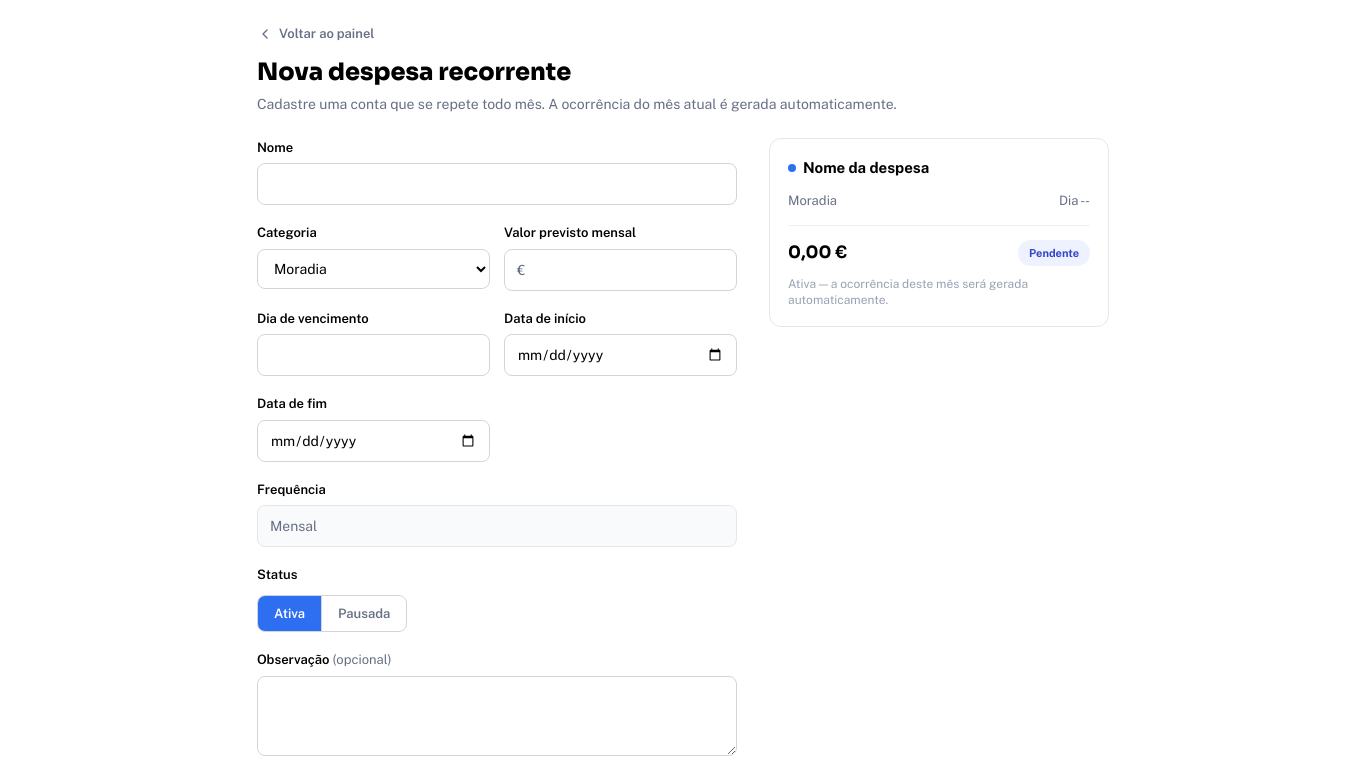
Test: CadastroDespesaRecorrenteComponent › shows a confirmation dialog when "Voltar ao painel" is clicked with unsaved data, and "Continuar editando" keeps the data (FR-023/FR-024)
Type "Aluguel" into the field with test id "nome-input". click: (497, 184)
box: [257,163,737,205]
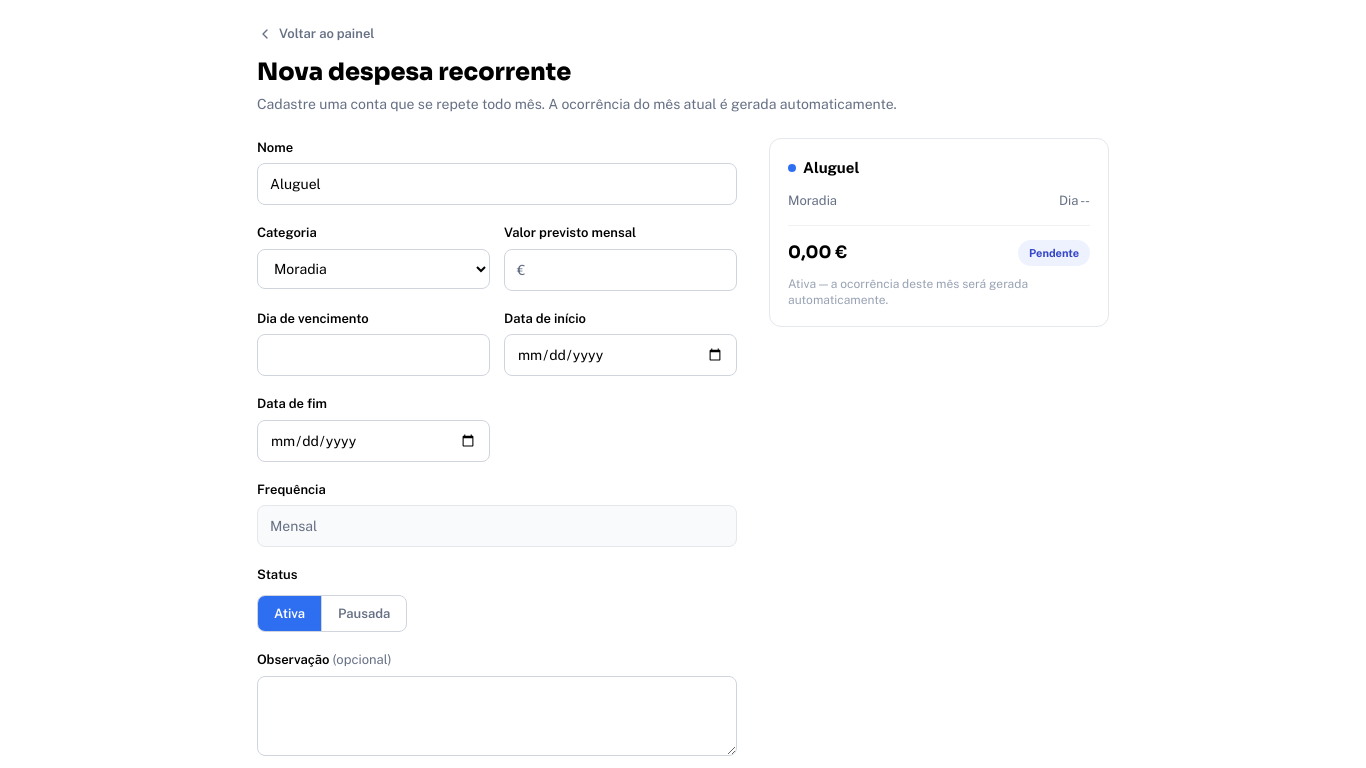
Click the button with test id "voltar-painel-btn". click: click(316, 34)
box: [257,24,374,44]
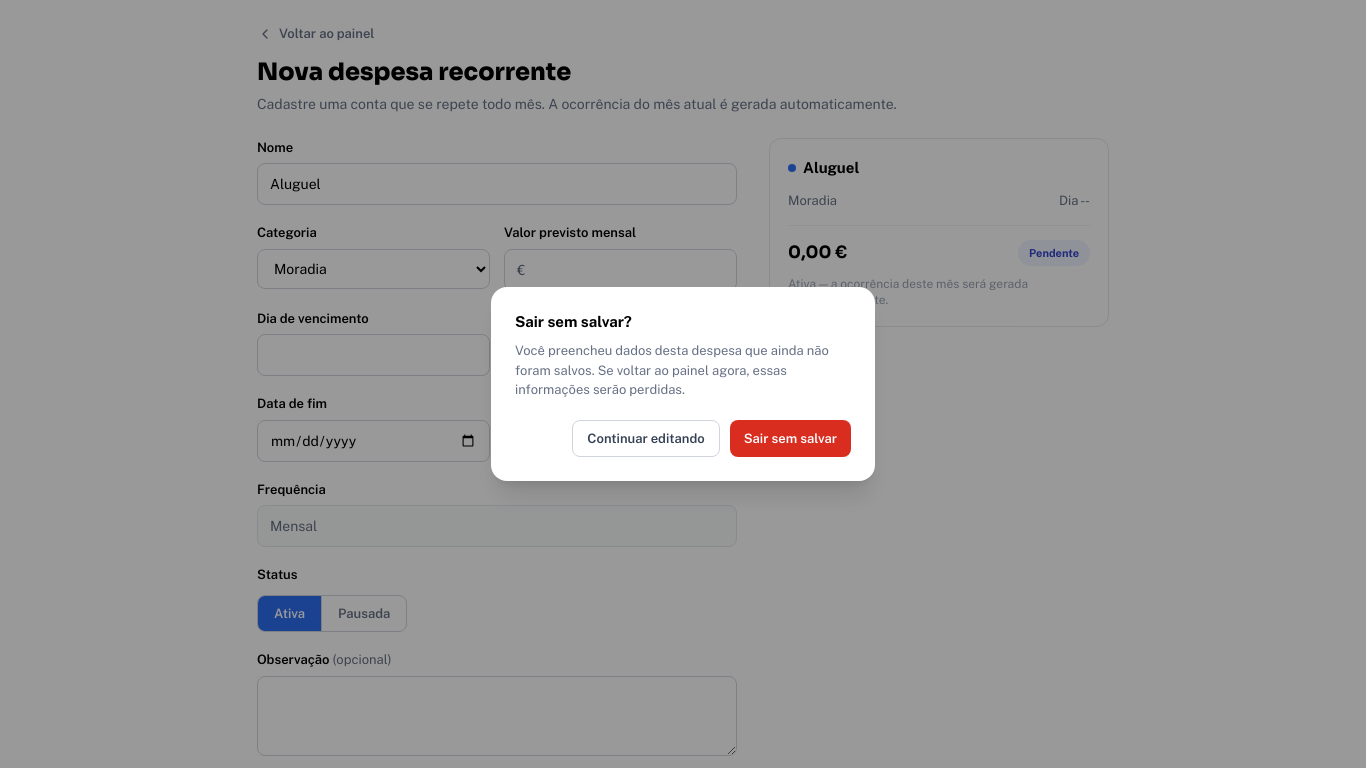
Result: the element with test id "exit-confirm-overlay" is shown
Click the button with test id "continuar-editando-btn". click: click(646, 439)
box: [572,420,720,457]
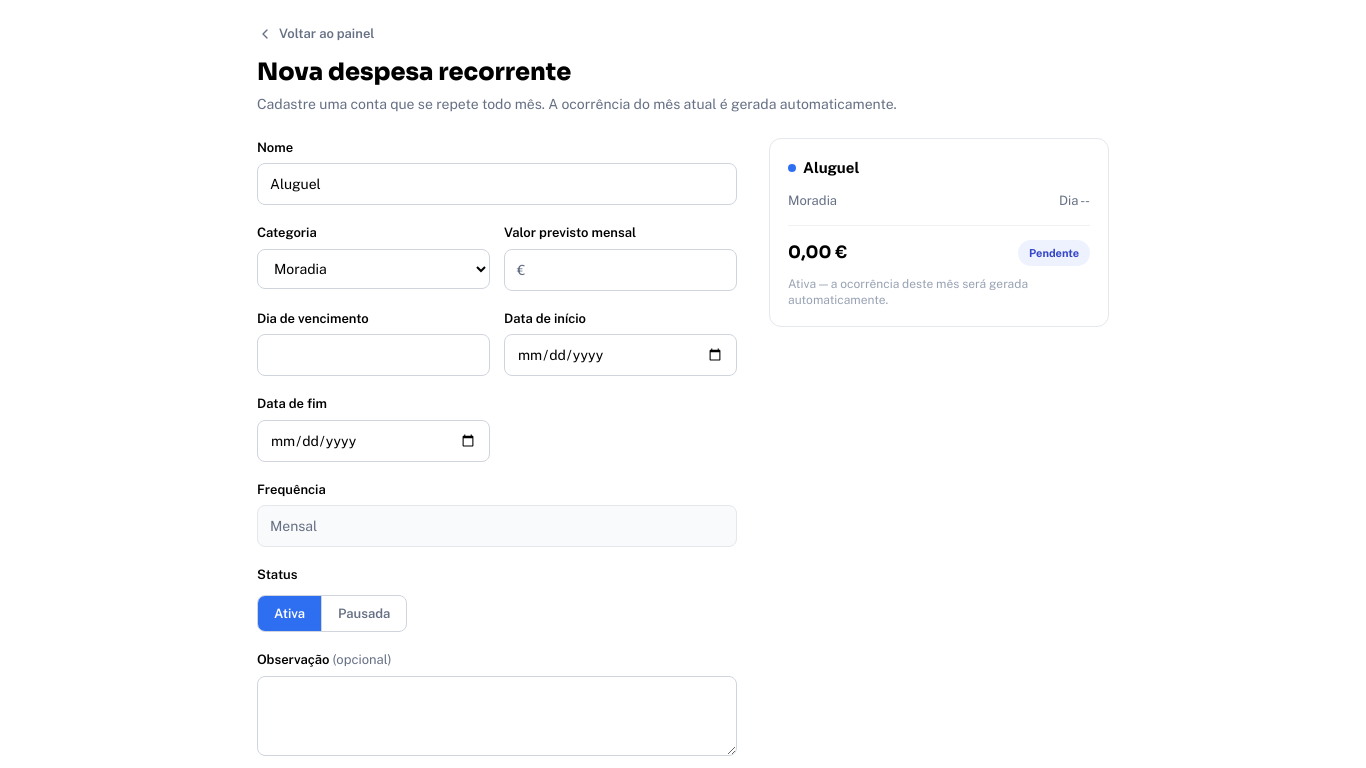
Result: the text "Aluguel" is shown at [803,156,859,179]
Result: the element with test id "exit-confirm-overlay" is gone
